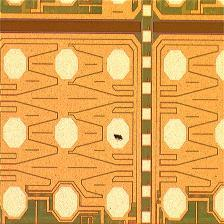PARTICLE: (113, 132, 125, 144)
